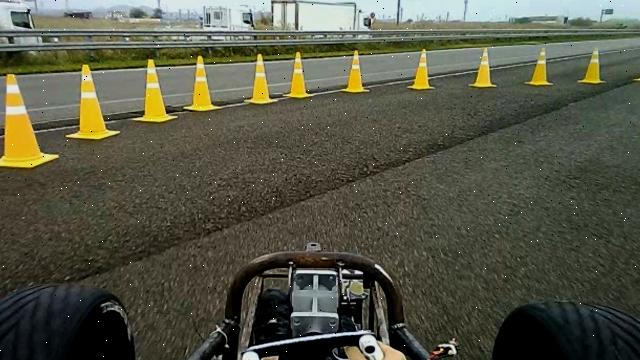yellow cone: (0, 72, 60, 168), (65, 63, 121, 140), (132, 58, 178, 123), (183, 55, 223, 112), (244, 52, 278, 104), (283, 50, 315, 98), (340, 49, 371, 93), (407, 48, 437, 90), (468, 47, 498, 88), (525, 47, 554, 86), (577, 47, 606, 84), (633, 46, 640, 82)
